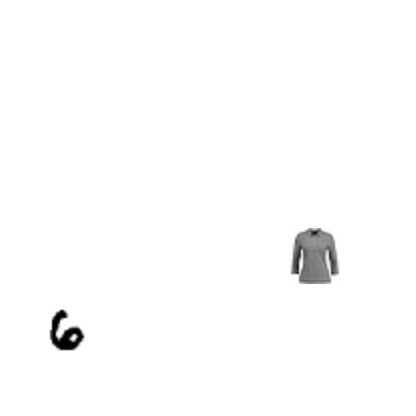6: (36, 306, 92, 362)
T-shirt/top: (287, 228, 343, 284)
